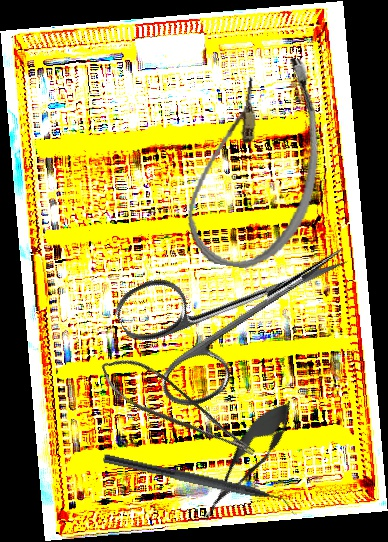Cannula: (179, 45, 335, 278)
Chopper: (99, 453, 302, 518)
Iris Scissors: (109, 193, 375, 420)
Micro Scissor: (92, 341, 260, 483), (190, 390, 303, 531)
